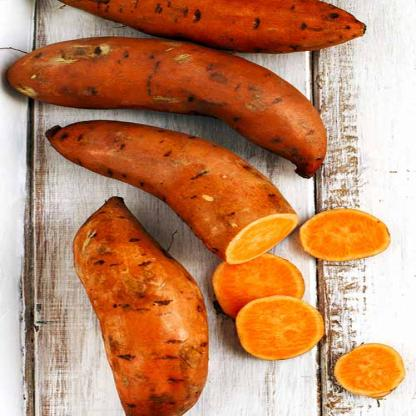---: (5, 33, 337, 180), (39, 119, 287, 262), (70, 192, 213, 416), (230, 296, 327, 362), (295, 207, 392, 264), (329, 340, 407, 400)
